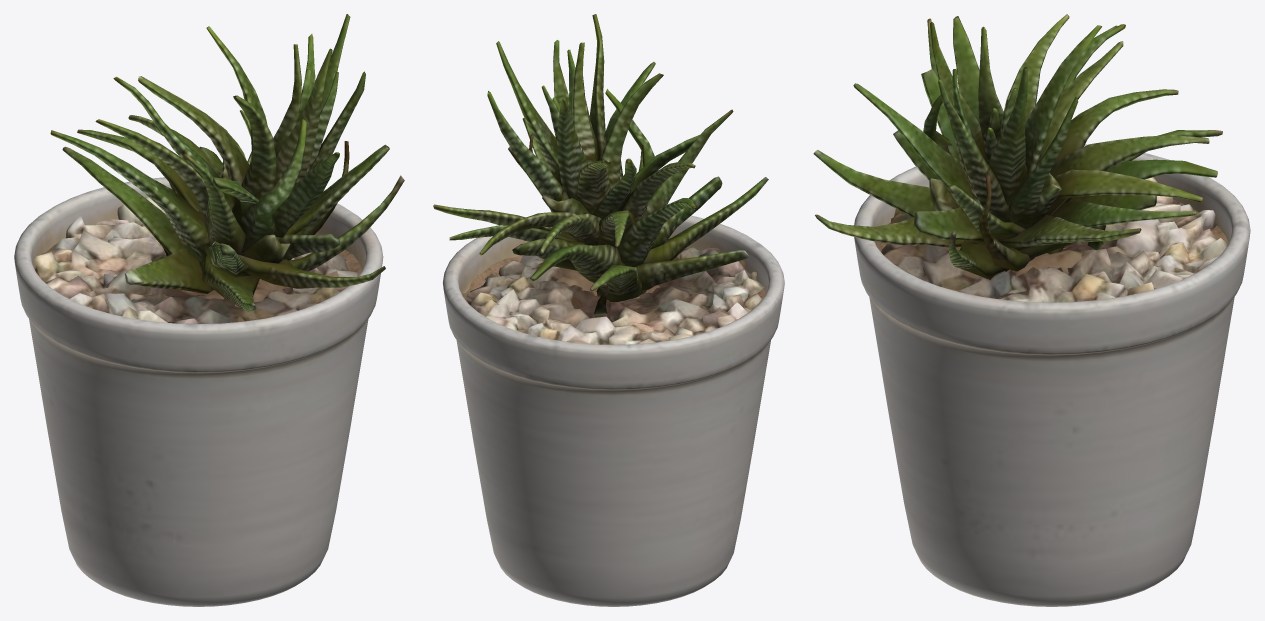
File: polyhaven-potted-plant-04.glb
3 views of the same model, side by side, from view 1: azimuth 30°, elevation 25°; view 2: azimuth 150°, elevation 25°; view 3: azimuth 270°, elevation 25° (orthographic). The views are drawn at different scales.
Parts seen in each view (by area): view 1: potted_plant_04_pot, potted_plant_04_plant, potted_plant_04_ground, potted_plant_04_dirt; view 2: potted_plant_04_pot, potted_plant_04_plant, potted_plant_04_ground, potted_plant_04_dirt; view 3: potted_plant_04_pot, potted_plant_04_plant, potted_plant_04_ground, potted_plant_04_dirt.
Part boxes in pixels (x1,y1,x2,y2): potted_plant_04_pot: [14, 177, 383, 606]; potted_plant_04_plant: [50, 14, 404, 311]; potted_plant_04_ground: [34, 196, 357, 323]; potted_plant_04_dirt: [34, 238, 362, 307]; potted_plant_04_pot: [443, 215, 784, 606]; potted_plant_04_plant: [433, 14, 768, 314]; potted_plant_04_ground: [463, 247, 765, 344]; potted_plant_04_dirt: [462, 247, 765, 306]; potted_plant_04_pot: [854, 144, 1250, 606]; potted_plant_04_plant: [813, 14, 1222, 279]; potted_plant_04_ground: [881, 177, 1227, 302]; potted_plant_04_dirt: [875, 200, 1228, 297].
Size of the model in its own units: 0.1679 by 0.2675 by 0.1848.
Materials: 1 (1 with a texture image).
